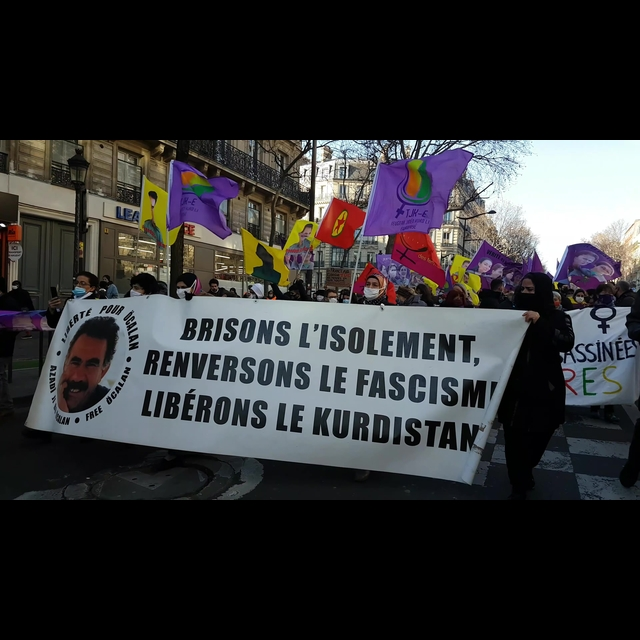APO: (56, 318, 121, 407)
